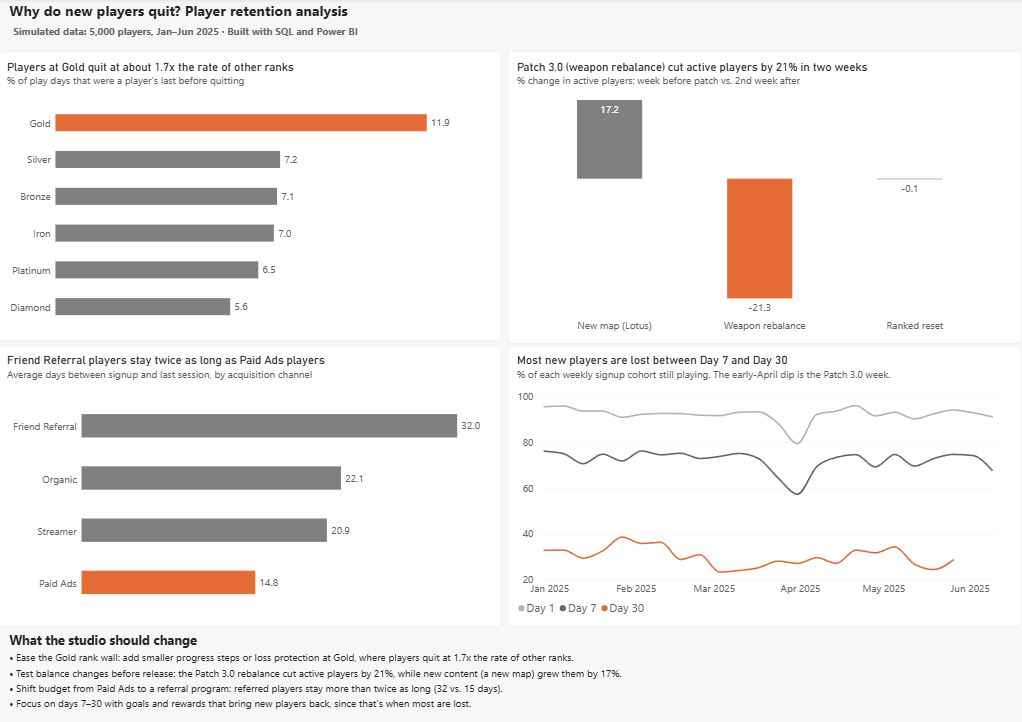

What the dashboard file says about the page in this screenshot:
{"tool":"powerbi","page":{"name":"Page 1","canvas":[1920,1400],"ordinal":0},"visuals":[{"type":"clusteredBarChart","title":"Players at Gold quit at about 1.7x the rate of other ranks","fields":{"Category":["03_quit_rate_by_rank.rank_tier"],"Y":["Sum(03_quit_rate_by_rank.quit_rate_pct)"]},"box":[0,99.7,944.9,541.7],"z":0},{"type":"clusteredColumnChart","title":"Patch 3.0 (weapon rebalance) cut active players by 21% in two weeks","fields":{"Category":["04_patch_impact.note"],"Y":["Sum(04_patch_impact.change_week2_pct)"]},"box":[957.5,99.7,963.8,548],"z":1},{"type":"clusteredBarChart","title":"Friend Referral players stay twice as long as Paid Ads players","fields":{"Category":["05_retention_by_channel.acquisition_channel"],"Y":["Sum(05_retention_by_channel.avg_days_kept)"]},"box":[0,651.7,945,528],"z":2},{"type":"lineChart","title":"Most new players are lost between Day 7 and Day 30","fields":{"Category":["08_cohort_retention.cohort_week"],"Y":["Sum(08_cohort_retention.day1_pct)","Sum(08_cohort_retention.day7_pct)","Sum(08_cohort_retention.day30_pct)"]},"box":[957,651.7,963,528],"z":3},{"type":"textbox","box":[100,100,300,300],"z":4},{"type":"textbox","box":[20,5,1880,90],"z":5},{"type":"textbox","box":[20,1190,1880,200],"z":6}]}

Visuals, with their boxes on the page's 1920x1400 design canvas (x1, y1, x2, y2). These are canvas units, not pixel positions in the 1022x722 screenshot, which may show the page scaled, cropped or inside an application window:
"Players at Gold quit at about 1.7x the rate of other ranks" clusteredBarChart: locate(0, 100, 945, 641)
"Patch 3.0 (weapon rebalance) cut active players by 21% in two weeks" clusteredColumnChart: locate(958, 100, 1921, 648)
"Friend Referral players stay twice as long as Paid Ads players" clusteredBarChart: locate(0, 652, 945, 1180)
"Most new players are lost between Day 7 and Day 30" lineChart: locate(957, 652, 1920, 1180)
textbox: locate(100, 100, 400, 400)
textbox: locate(20, 5, 1900, 95)
textbox: locate(20, 1190, 1900, 1390)
